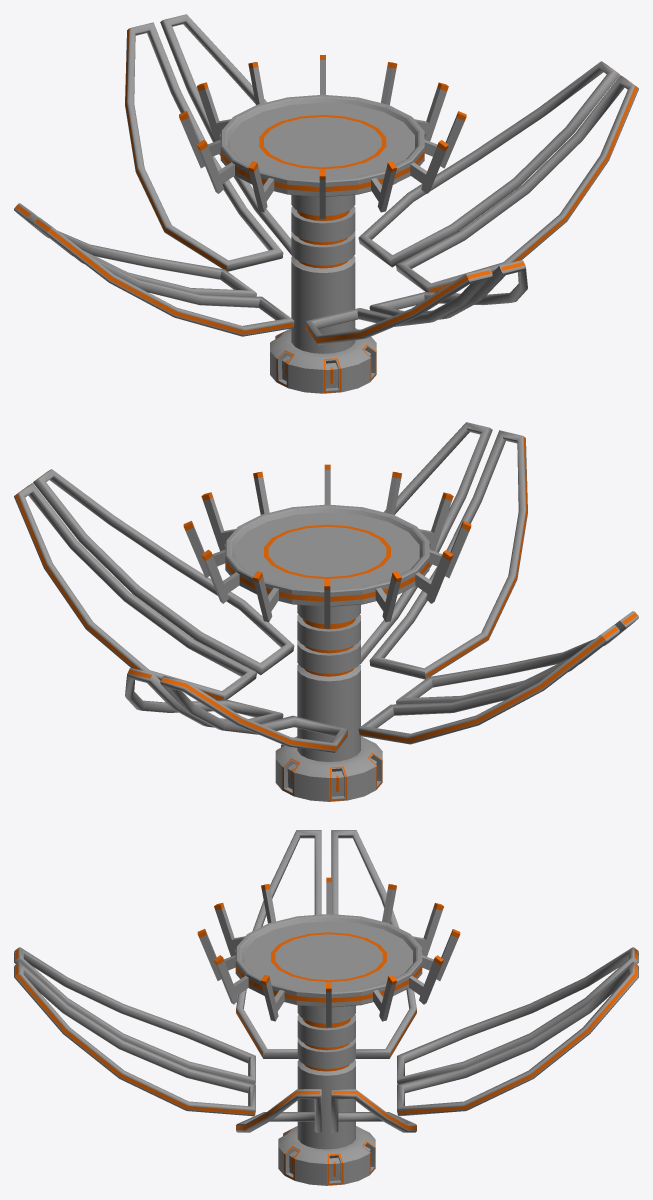
File: endPiece.FBX
3 renders of one model, top to bottom at view 1: azimuth 30°, elevation 25°; view 2: azimuth 150°, elevation 25°; view 3: azimuth 270°, elevation 25°, orthographic. The views are drawn at different scales.
Parts seen in each view (by area): view 1: Cylinder001; view 2: Cylinder001; view 3: Cylinder001.
Boxes of the visible parts, box(x1,y1,x2,y2) form: Cylinder001: box(14, 14, 638, 393); Cylinder001: box(14, 422, 638, 801); Cylinder001: box(14, 830, 638, 1185).
Bounding box in the file's own units: 1654 × 687 × 1654.
